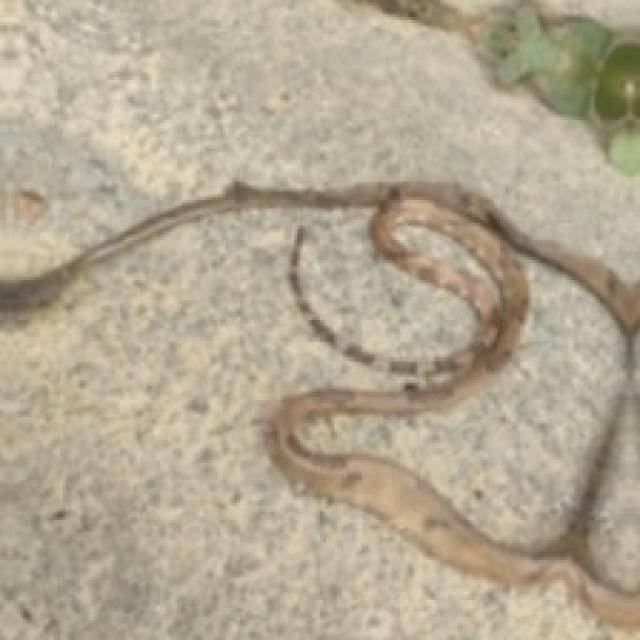dog-toothed cat snake: (0, 181, 640, 627)
